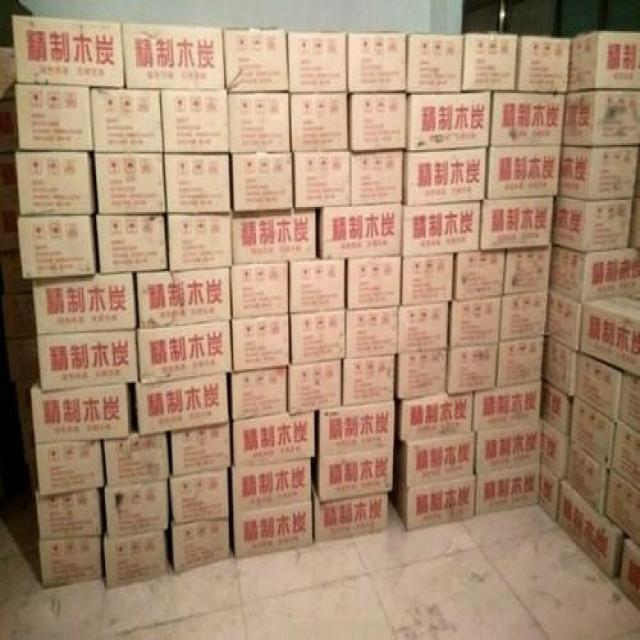box: (12, 14, 124, 88), (31, 376, 133, 443), (122, 22, 225, 88), (36, 329, 138, 393), (557, 478, 622, 578), (32, 273, 136, 333), (138, 321, 232, 385), (134, 374, 230, 436), (137, 266, 230, 328), (17, 214, 99, 279), (548, 247, 640, 304), (15, 83, 93, 150), (579, 293, 640, 378), (15, 152, 96, 216), (406, 91, 492, 150), (389, 469, 475, 528), (90, 86, 164, 154), (402, 147, 486, 205), (552, 193, 634, 252), (232, 209, 316, 266), (233, 411, 315, 469), (319, 202, 402, 259), (232, 459, 312, 518), (159, 88, 230, 154), (93, 152, 166, 216), (233, 500, 314, 557), (568, 31, 640, 93), (96, 212, 168, 274), (559, 145, 640, 200), (562, 90, 640, 147), (317, 447, 394, 504), (164, 152, 232, 216), (401, 202, 480, 257), (486, 143, 562, 200), (223, 26, 289, 91), (394, 433, 474, 486), (481, 195, 554, 252), (490, 91, 567, 145), (227, 90, 291, 154), (319, 402, 396, 455), (312, 492, 389, 543), (102, 530, 169, 588), (168, 212, 233, 271), (563, 438, 608, 523), (35, 440, 102, 497), (102, 431, 169, 488), (232, 152, 293, 214), (287, 29, 347, 91), (471, 380, 541, 433), (347, 31, 406, 93), (475, 462, 540, 518), (289, 91, 348, 152), (293, 148, 351, 210), (104, 480, 168, 536), (575, 352, 623, 426), (406, 33, 465, 93), (401, 393, 474, 440), (232, 314, 289, 374), (169, 467, 229, 524), (474, 423, 541, 474), (348, 93, 407, 150), (230, 260, 288, 317), (35, 490, 101, 540), (568, 398, 614, 469), (170, 424, 230, 478), (40, 536, 102, 588), (516, 36, 572, 93), (172, 518, 229, 574), (289, 257, 346, 312), (291, 309, 346, 366), (462, 35, 517, 91), (230, 367, 287, 421), (347, 255, 401, 311), (351, 150, 404, 207), (288, 359, 342, 412), (394, 348, 448, 400), (605, 469, 640, 547), (346, 307, 398, 359), (342, 355, 394, 407), (449, 297, 502, 348), (397, 302, 448, 354), (402, 254, 453, 305), (456, 250, 506, 302), (447, 343, 499, 393), (497, 336, 544, 390), (499, 292, 548, 343), (503, 247, 552, 297), (541, 336, 579, 398), (608, 419, 640, 492), (545, 292, 581, 352), (14, 381, 36, 464), (540, 380, 571, 438), (540, 419, 568, 480), (618, 536, 640, 611), (1, 292, 36, 338), (0, 248, 32, 293), (6, 336, 38, 381), (618, 371, 640, 436), (0, 152, 19, 216), (539, 462, 559, 521), (0, 98, 18, 154), (0, 47, 17, 102), (0, 214, 18, 254), (28, 461, 41, 499)
